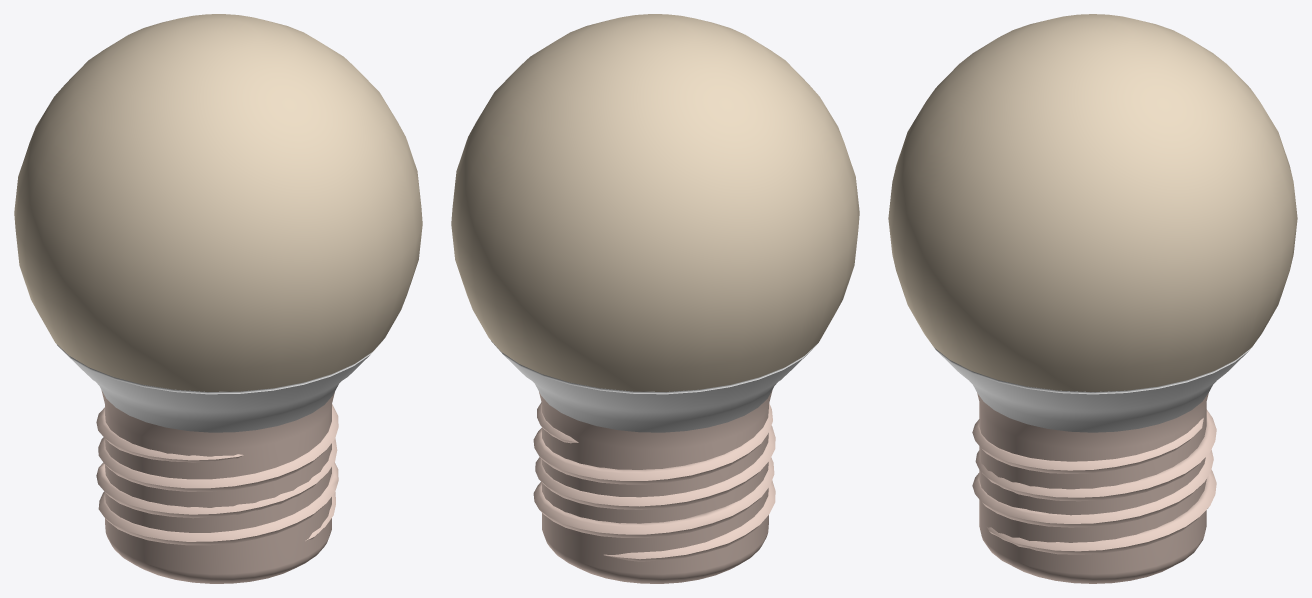
Rendered from Lightbulb.fbx.
3 views of the same model, side by side, from view 1: azimuth 30°, elevation 25°; view 2: azimuth 150°, elevation 25°; view 3: azimuth 270°, elevation 25° (orthographic).
Visible parts, largest first — view 1: Lightbulb; view 2: Lightbulb; view 3: Lightbulb.
Boxes of the visible parts, box(x1,y1,x2,y2) form: Lightbulb: box(14, 14, 422, 583); Lightbulb: box(451, 14, 859, 583); Lightbulb: box(888, 14, 1297, 583).
Bounding box in the file's own units: 20 × 28.87 × 20.
